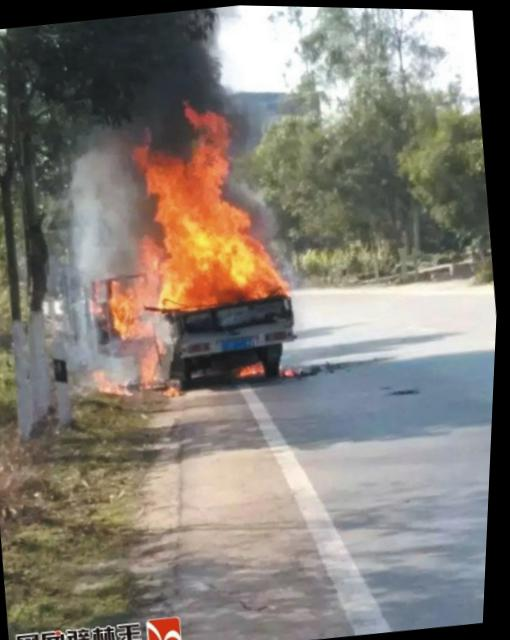fire: (70, 91, 307, 402)
